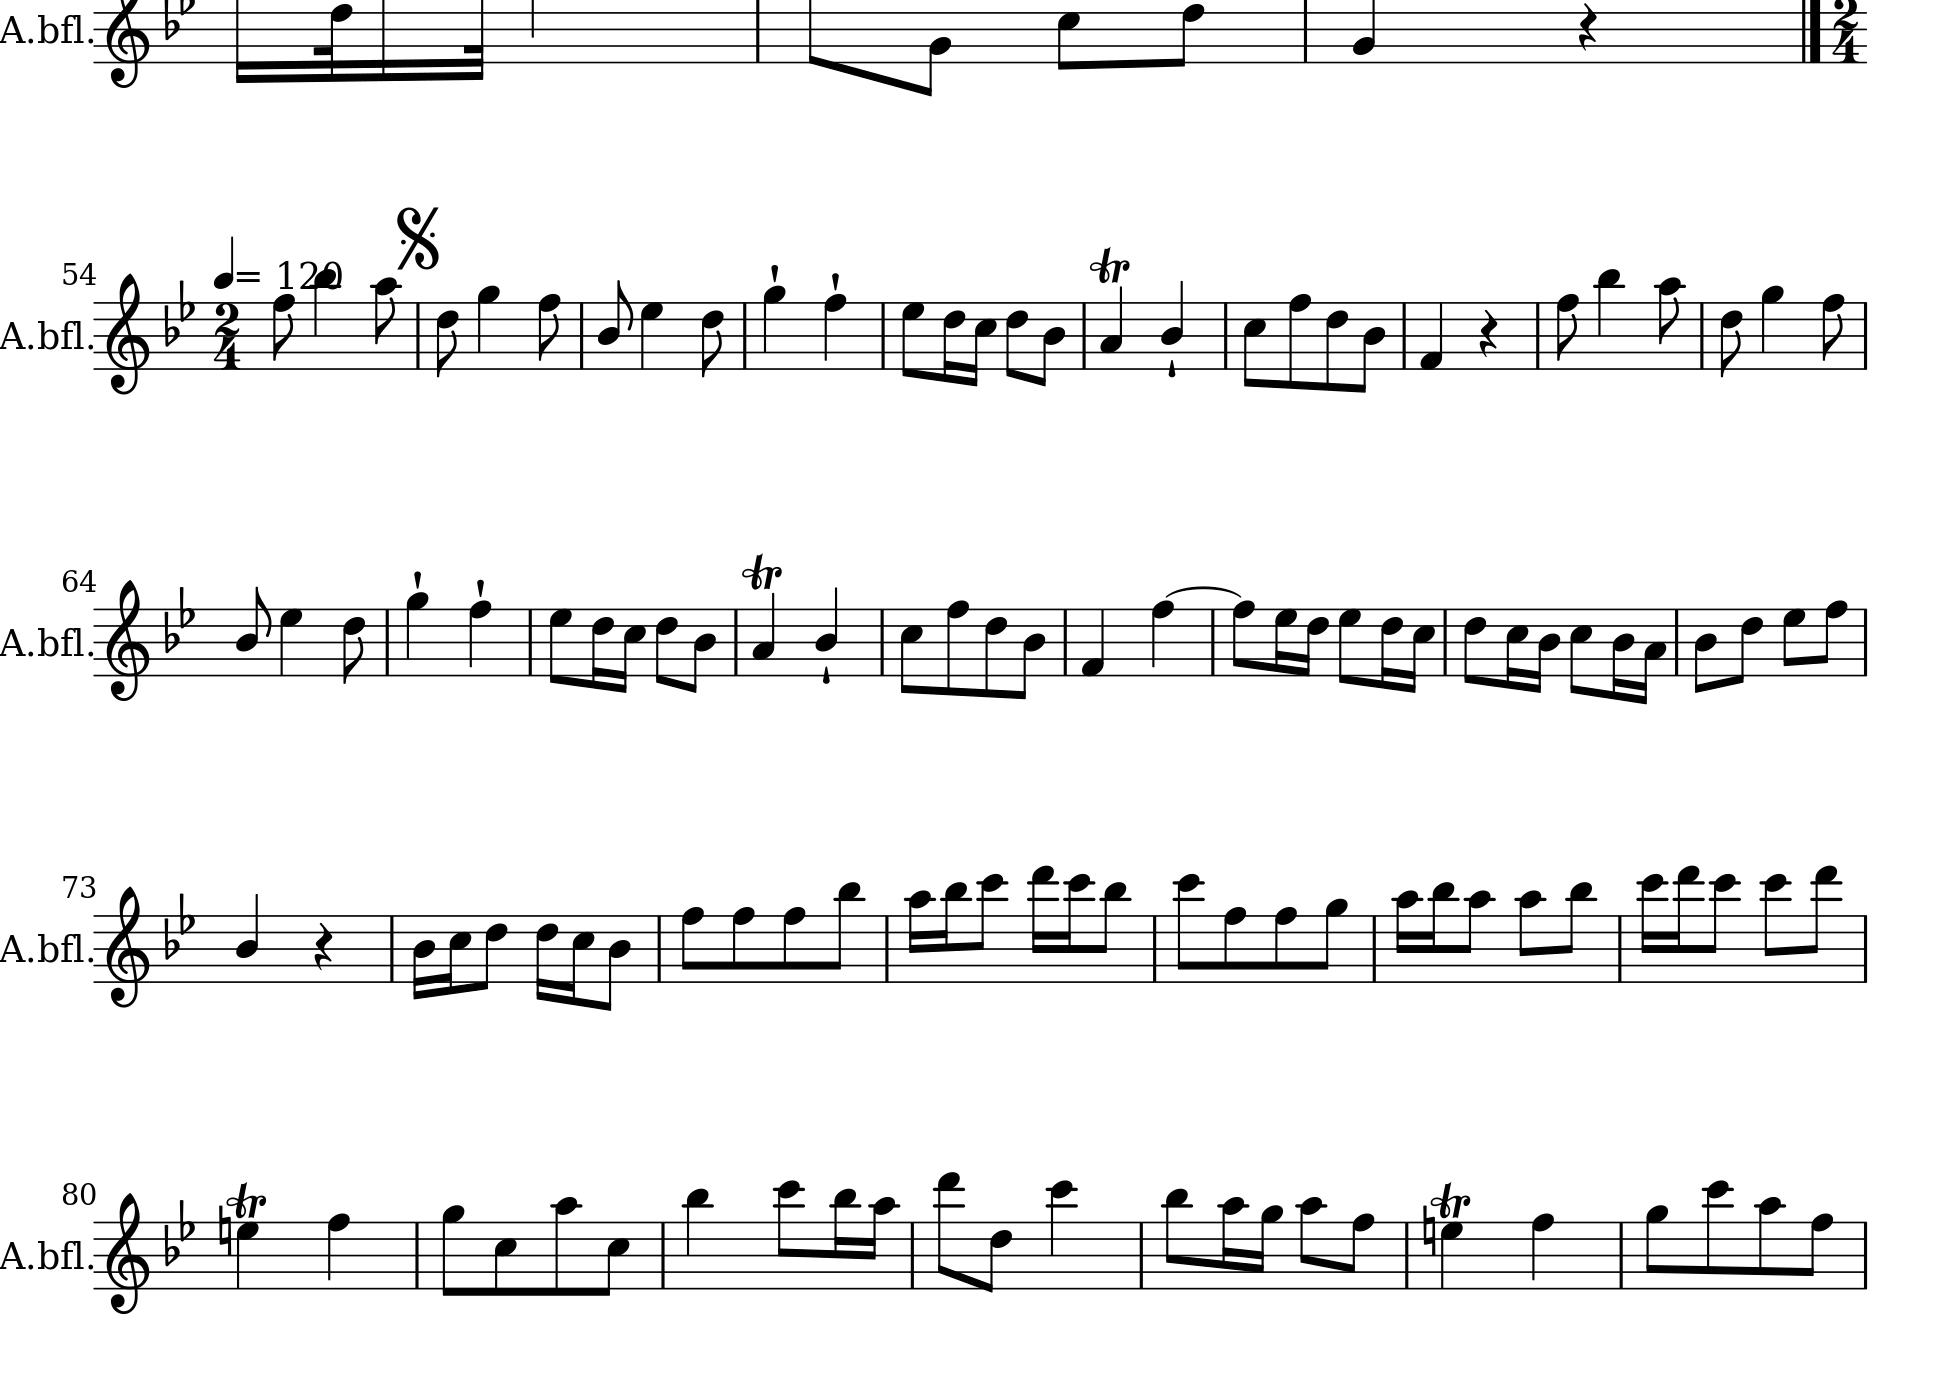0: (322, 256, 345, 286), (78, 1177, 97, 1207)
1: (277, 256, 294, 289)
16_10: (865, 1195, 900, 1291), (904, 888, 934, 984), (1392, 888, 1422, 984), (1218, 1194, 1248, 1290)
16_11: (937, 880, 970, 985), (1425, 880, 1456, 985), (829, 1185, 859, 1291)
16_12: (1059, 871, 1095, 984), (1638, 871, 1666, 985)
16_13: (1668, 864, 1702, 984), (1027, 862, 1057, 982)
16_3: (1638, 607, 1668, 706)
16_4: (1531, 607, 1561, 696), (1611, 606, 1635, 702), (411, 913, 435, 1000)
16_5: (564, 912, 595, 1006), (967, 298, 997, 387), (616, 606, 646, 693), (1407, 607, 1437, 694), (441, 912, 471, 994), (1504, 606, 1530, 690)
16_6: (534, 912, 559, 1002), (942, 300, 966, 384), (589, 606, 613, 690), (1380, 606, 1404, 690), (1300, 607, 1329, 678)
16_7: (1273, 606, 1299, 676)
16_9: (1254, 1203, 1284, 1291)
2: (1831, 1, 1864, 28), (298, 258, 319, 289)
3: (79, 874, 97, 898)
4: (210, 334, 244, 369), (1833, 28, 1866, 61), (78, 259, 97, 286), (79, 567, 97, 594)
4_1: (1419, 300, 1446, 372), (1080, 607, 1107, 678)
4_11: (1594, 265, 1624, 372), (682, 1186, 712, 1291)
4_12: (1047, 1177, 1077, 1291)
4_3: (1098, 283, 1125, 370), (751, 591, 775, 676)
4_4: (1159, 279, 1185, 375), (234, 892, 259, 985), (814, 585, 838, 682)
4_7: (277, 606, 304, 676), (639, 298, 664, 370), (1440, 1219, 1465, 1291), (235, 1219, 261, 1290)
4_8: (1149, 598, 1176, 679), (1530, 1210, 1557, 1291), (822, 291, 847, 372), (325, 1210, 351, 1291), (466, 598, 492, 678)
4_9: (760, 283, 787, 370), (475, 283, 501, 370), (1759, 283, 1785, 370), (403, 589, 429, 676)
5: (61, 259, 78, 286)
6: (61, 567, 79, 592)
7: (61, 873, 79, 898)
8: (213, 297, 241, 336), (60, 1179, 78, 1207)
8_10: (549, 1195, 580, 1297), (1461, 888, 1494, 984), (1656, 274, 1686, 372), (1755, 1194, 1785, 1291), (1516, 888, 1546, 984), (370, 276, 400, 370), (1297, 1195, 1326, 1291)
8_11: (826, 879, 864, 985), (1560, 880, 1597, 985), (1095, 880, 1131, 985), (1162, 1186, 1192, 1291)
8_12: (970, 871, 1008, 984), (1704, 871, 1741, 984), (1173, 871, 1204, 985), (774, 1177, 805, 1291), (1761, 871, 1792, 984), (1704, 1179, 1734, 1291)
8_13: (1804, 862, 1842, 984), (933, 1171, 964, 1290)
8_4: (600, 912, 633, 1012), (595, 279, 631, 370), (235, 586, 270, 678), (1356, 300, 1387, 394), (1015, 606, 1047, 700), (1035, 300, 1068, 388), (685, 607, 718, 694), (1692, 606, 1719, 694)
8_5: (597, 1219, 631, 1297), (1242, 298, 1267, 390), (898, 606, 922, 696), (1569, 606, 1593, 696), (492, 1219, 519, 1297)
8_6: (1731, 607, 1764, 685), (1323, 298, 1350, 393), (982, 606, 1008, 700), (982, 1219, 1014, 1294), (478, 913, 508, 991), (699, 298, 727, 379), (433, 300, 460, 379), (1717, 300, 1744, 379), (340, 606, 367, 685), (654, 606, 679, 687), (1462, 606, 1488, 685), (1005, 300, 1029, 379)
8_7: (900, 300, 925, 379), (547, 606, 573, 685), (1780, 606, 1807, 678), (1338, 607, 1362, 685)
8_8: (1285, 292, 1312, 391), (943, 598, 970, 697), (1816, 597, 1849, 678), (1801, 1210, 1834, 1291), (1344, 1210, 1375, 1291), (1821, 291, 1848, 372), (780, 904, 807, 985), (1221, 904, 1248, 985), (1272, 904, 1299, 985), (1554, 291, 1581, 370), (1230, 598, 1257, 678), (535, 292, 562, 370), (679, 904, 705, 985), (730, 904, 754, 985), (271, 292, 295, 370)
8_9: (1315, 897, 1350, 985), (439, 1203, 466, 1297), (1644, 1203, 1671, 1291)
B_F: (163, 1195, 196, 1266), (163, 277, 196, 346), (163, 583, 196, 652), (163, 889, 196, 958)
Final_barline: (1800, 1, 1825, 61)
Gclef: (103, 1189, 150, 1315), (103, 577, 150, 702), (103, 883, 150, 1008), (103, 271, 148, 394)
Natural: (1420, 1204, 1437, 1258), (217, 1204, 232, 1258)
Rests4: (312, 919, 334, 972), (1477, 307, 1500, 358), (1578, 1, 1599, 52)
Segno: (391, 199, 442, 271)
Single_barline: (408, 1221, 427, 1288), (1612, 1221, 1632, 1288), (652, 1221, 672, 1287), (382, 913, 400, 982), (651, 913, 669, 982), (1857, 1219, 1875, 1288), (874, 301, 892, 369), (1395, 301, 1413, 369), (1398, 1221, 1416, 1288), (877, 915, 895, 981), (1146, 915, 1164, 981), (1365, 915, 1383, 981), (1857, 300, 1873, 369), (1057, 607, 1074, 676), (1437, 607, 1453, 676), (1669, 607, 1686, 676), (409, 300, 426, 367), (1218, 301, 1234, 369), (522, 607, 538, 675), (727, 607, 744, 675), (736, 301, 753, 367), (1530, 301, 1546, 367), (379, 607, 396, 673), (1206, 609, 1222, 675), (1134, 1221, 1150, 1287), (1858, 607, 1873, 676), (1858, 913, 1873, 982), (874, 607, 889, 675), (574, 301, 589, 367), (1077, 301, 1092, 367), (1695, 301, 1710, 367), (1612, 915, 1627, 981), (904, 1222, 919, 1287)
Slur: (1164, 583, 1245, 600)
Speed4: (214, 232, 262, 289)
Staccatissimo: (817, 664, 832, 685), (1164, 358, 1179, 378)
TimeSig: (1830, 1, 1863, 63), (213, 298, 241, 369)
Trill: (739, 549, 784, 592), (1432, 1180, 1476, 1222), (1090, 241, 1131, 286), (225, 1179, 268, 1218)
